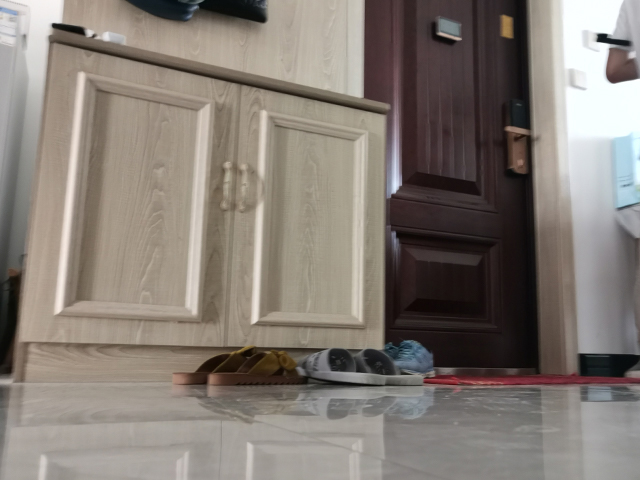cabinet: (25, 23, 382, 347)
carpet: (422, 372, 640, 386)
slippers: (202, 343, 312, 386), (304, 347, 390, 385), (357, 347, 427, 383)
